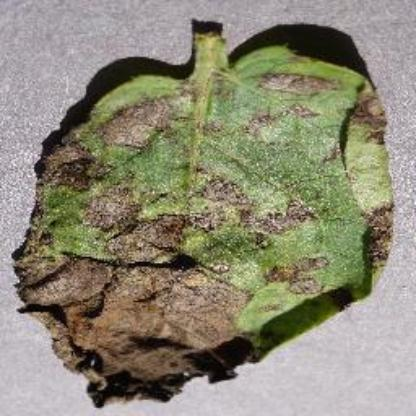Early-Blight: (16, 20, 392, 406)
